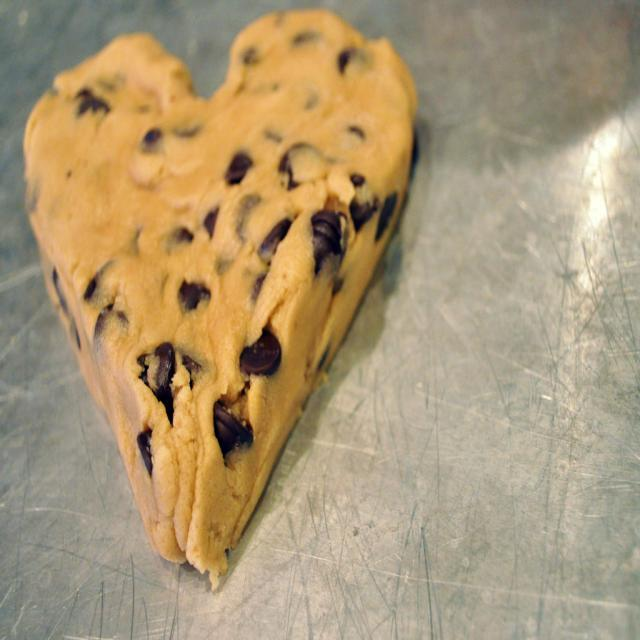Cookie: (21, 3, 418, 591)
